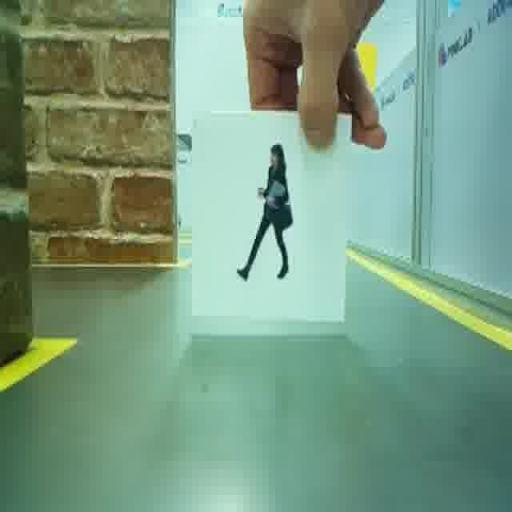human: (237, 143, 292, 278)
